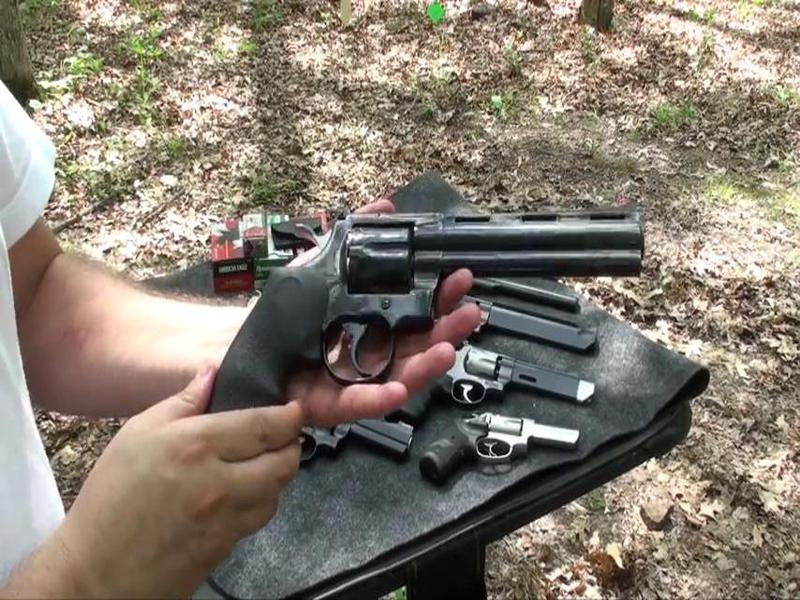Revolver: (191, 188, 659, 416)
